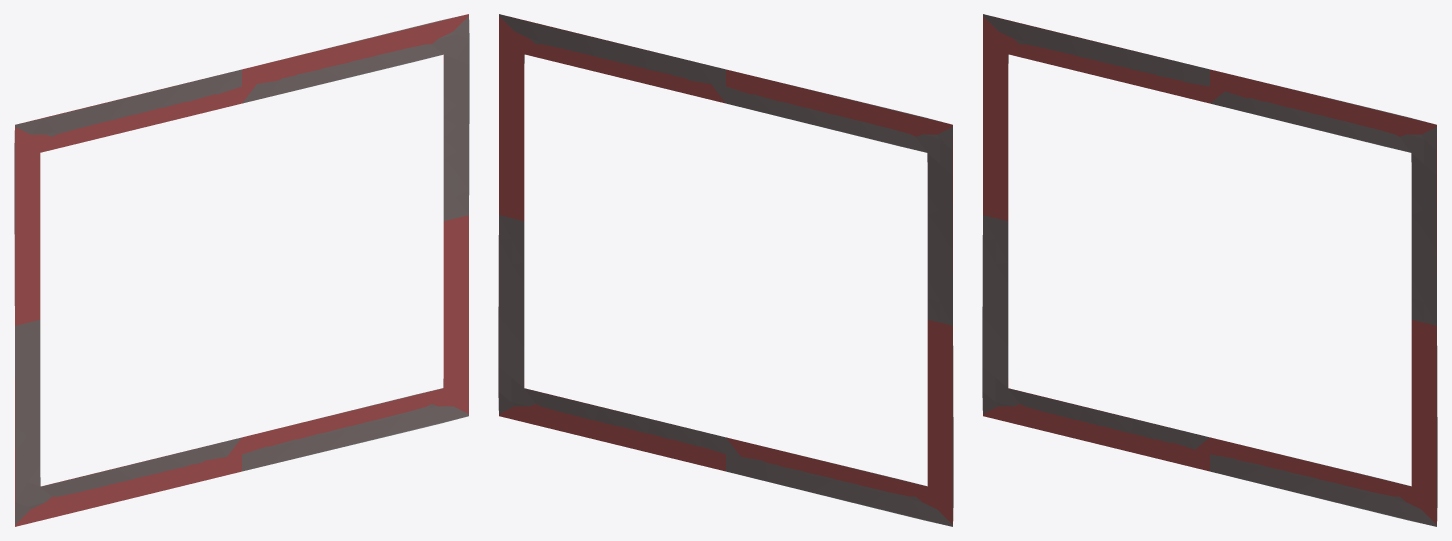
Rendered from warping-box-121-143-10-8-198.glb.
The picture shows the model from 3 angles, left to right: view 1: azimuth 30°, elevation 25°; view 2: azimuth 150°, elevation 25°; view 3: azimuth 330°, elevation 25°; orthographic projection.
Parts seen in each view (by area): view 1: undeformed cross-section, cross-section with warping; view 2: undeformed cross-section, cross-section with warping; view 3: undeformed cross-section, cross-section with warping.
Part boxes in pixels (bbox=[...]): undeformed cross-section: bbox=[15, 14, 468, 526]; cross-section with warping: bbox=[14, 15, 469, 524]; undeformed cross-section: bbox=[499, 14, 952, 524]; cross-section with warping: bbox=[498, 14, 953, 526]; undeformed cross-section: bbox=[983, 14, 1436, 525]; cross-section with warping: bbox=[982, 14, 1437, 526].
Bounding box in the file's own units: 0.143 × 0.121 × 0.000732.
